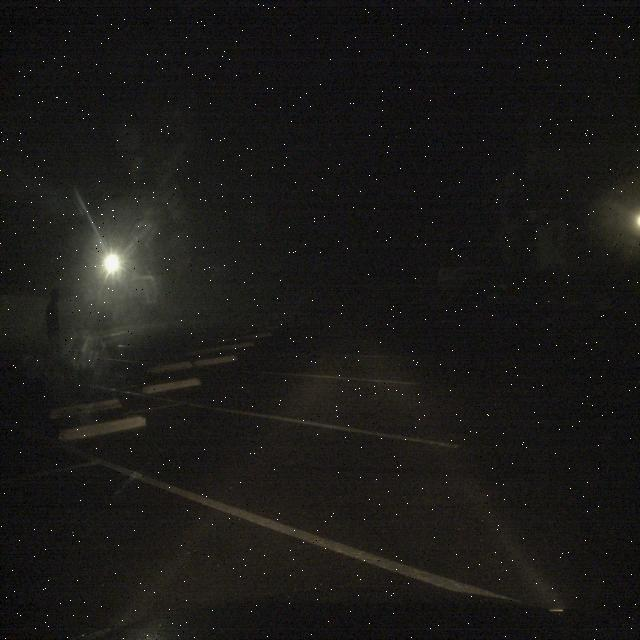humans: (43, 283, 62, 351)
